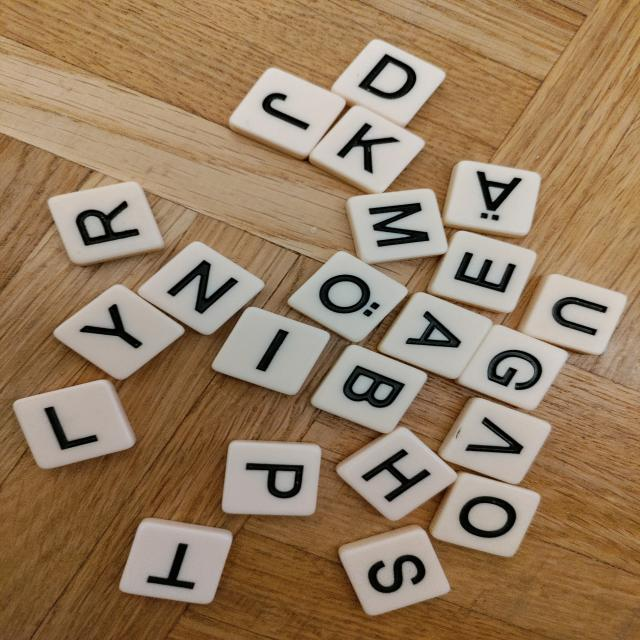a: (376, 289, 498, 382)
a_dot: (439, 160, 544, 240)
b: (309, 343, 430, 435)
d: (329, 37, 450, 129)
e: (426, 229, 540, 315)
g: (454, 323, 573, 412)
h: (333, 425, 460, 522)
i: (209, 305, 333, 398)
j: (221, 65, 348, 161)
k: (306, 104, 430, 196)
l: (12, 378, 140, 471)
m: (345, 188, 450, 266)
n: (134, 239, 268, 338)
o: (426, 473, 544, 559)
o_dot: (283, 249, 412, 345)
p: (219, 440, 323, 517)
r: (47, 180, 167, 268)
s: (337, 522, 455, 619)
t: (115, 516, 237, 606)
u: (517, 271, 629, 359)
v: (434, 395, 557, 485)
y: (50, 282, 188, 382)
